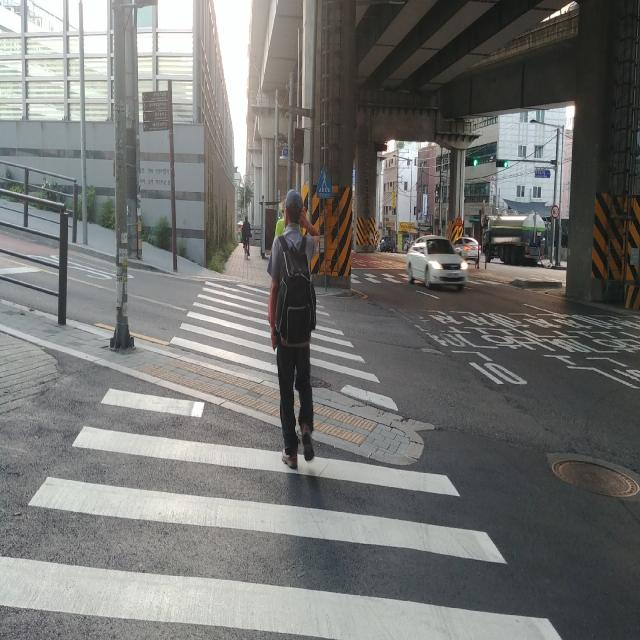횡단보도: (0, 387, 563, 639), (171, 272, 389, 400)
